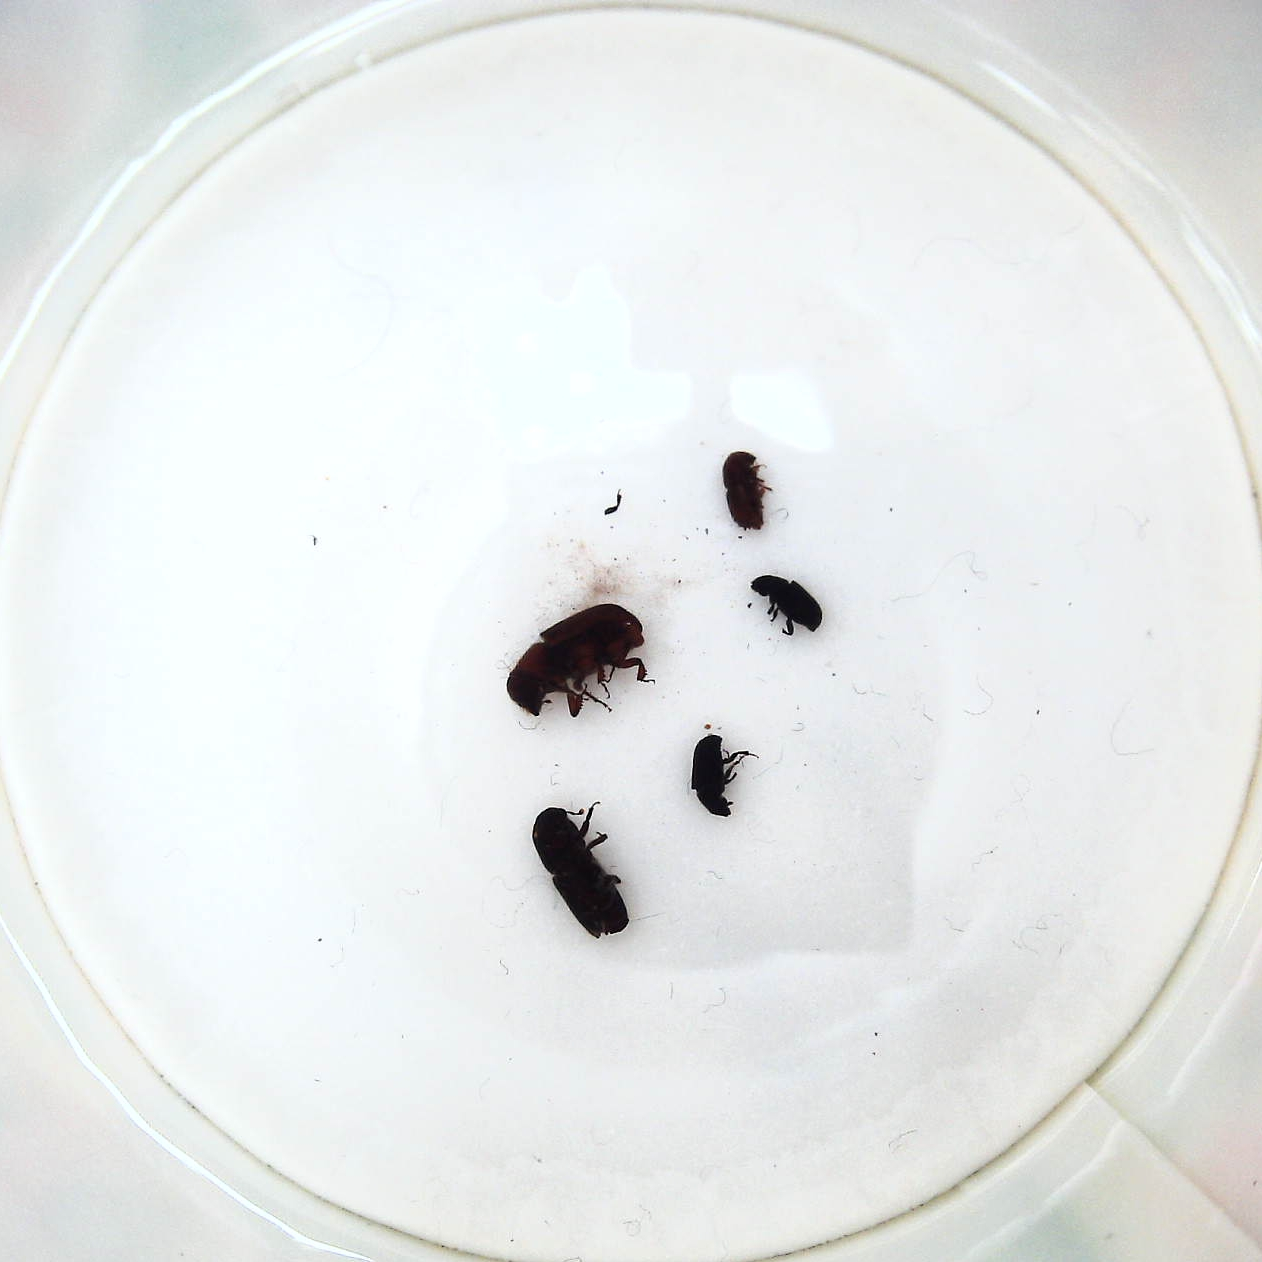Boerner: (530, 797, 640, 944)
Leconte: (504, 600, 655, 722)
armandi: (747, 570, 830, 644)
coleoptera: (689, 729, 759, 824)
linnaeus: (717, 444, 777, 534)
